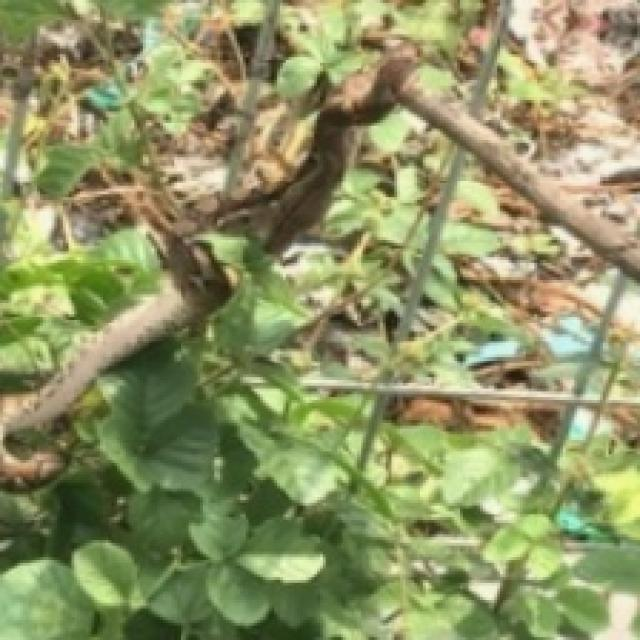reticulated python: (0, 46, 414, 480)
